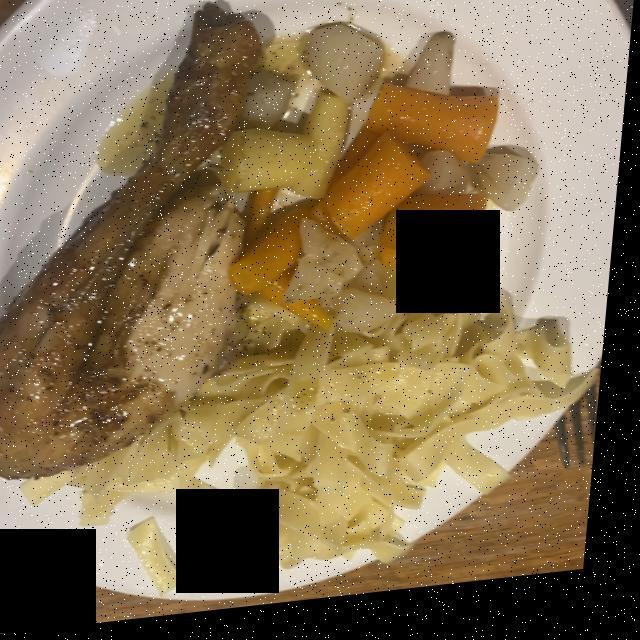chicken: (0, 20, 265, 481)
mixed-vegetables: (233, 35, 522, 322)
pasta: (90, 278, 583, 577)
